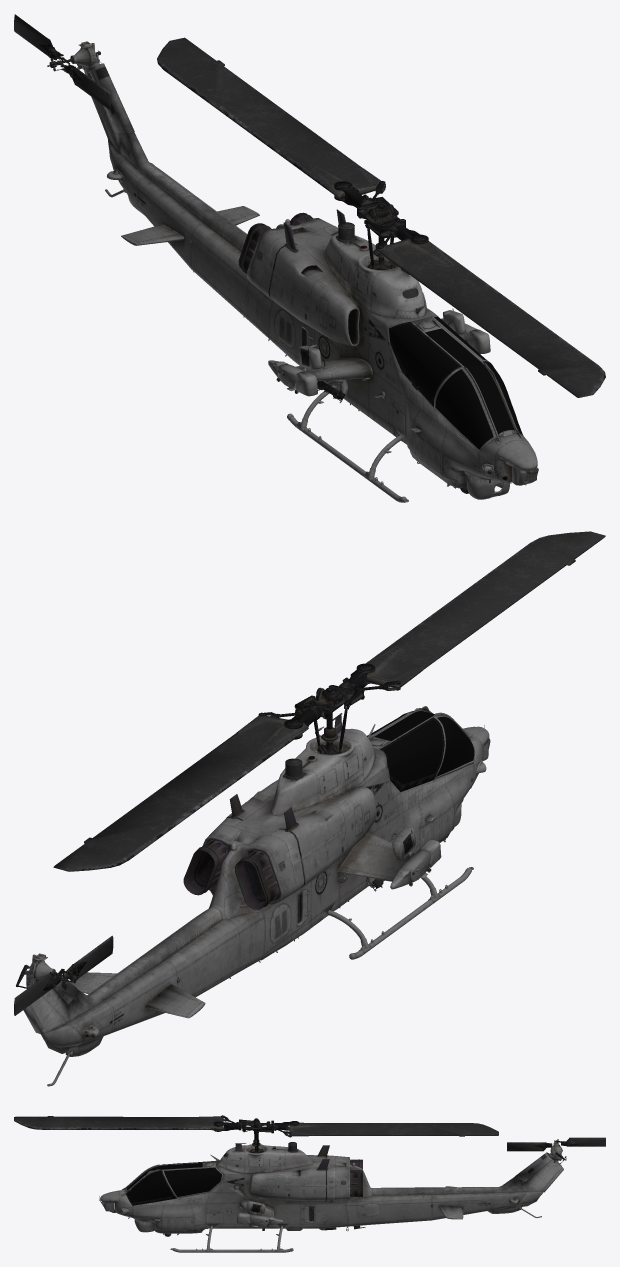
3 renders of one model, top to bottom at view 1: azimuth 30°, elevation 25°; view 2: azimuth 150°, elevation 25°; view 3: azimuth 270°, elevation 25°, orthographic. The views are drawn at different scales.
Visible parts, largest first — view 1: mesh19.dat.desirefx.me_, mesh18.dat.desirefx.me_, mesh40.dat.desirefx.me_, mesh41.dat.desirefx.me_, mesh1.dat.desirefx.me_, mesh20.dat.desirefx.me_, mesh2.dat.desirefx.me_, mesh9.dat.desirefx.me_, mesh21.dat.desirefx.me_, mesh8.dat.desirefx.me_, mesh26.dat.desirefx.me_, mesh23.dat.desirefx.me_ (+3 smaller); view 2: mesh19.dat.desirefx.me_, mesh18.dat.desirefx.me_, mesh41.dat.desirefx.me_, mesh40.dat.desirefx.me_, mesh20.dat.desirefx.me_, mesh2.dat.desirefx.me_, mesh1.dat.desirefx.me_, mesh9.dat.desirefx.me_, mesh8.dat.desirefx.me_, mesh21.dat.desirefx.me_, mesh23.dat.desirefx.me_, mesh36.dat.desirefx.me_ (+1 smaller); view 3: mesh19.dat.desirefx.me_, mesh18.dat.desirefx.me_, mesh40.dat.desirefx.me_, mesh41.dat.desirefx.me_, mesh1.dat.desirefx.me_, mesh20.dat.desirefx.me_, mesh3.dat.desirefx.me_, mesh9.dat.desirefx.me_, mesh36.dat.desirefx.me_, mesh26.dat.desirefx.me_, mesh23.dat.desirefx.me_, mesh21.dat.desirefx.me_ (+4 smaller).
Part boxes in pixels (x1=…): mesh19.dat.desirefx.me_: x1=247, y1=209, x2=537, y2=488; mesh18.dat.desirefx.me_: x1=70, y1=41, x2=312, y2=340; mesh40.dat.desirefx.me_: x1=376, y1=238, x2=605, y2=397; mesh41.dat.desirefx.me_: x1=157, y1=37, x2=385, y2=200; mesh1.dat.desirefx.me_: x1=425, y1=316, x2=514, y2=449; mesh20.dat.desirefx.me_: x1=268, y1=308, x2=490, y2=402; mesh2.dat.desirefx.me_: x1=390, y1=323, x2=457, y2=400; mesh9.dat.desirefx.me_: x1=287, y1=385, x2=408, y2=502; mesh21.dat.desirefx.me_: x1=364, y1=217, x2=428, y2=254; mesh8.dat.desirefx.me_: x1=121, y1=224, x2=184, y2=245; mesh26.dat.desirefx.me_: x1=62, y1=64, x2=111, y2=109; mesh23.dat.desirefx.me_: x1=334, y1=181, x2=398, y2=215; mesh19.dat.desirefx.me_: x1=202, y1=706, x2=489, y2=960; mesh18.dat.desirefx.me_: x1=16, y1=840, x2=279, y2=1086; mesh41.dat.desirefx.me_: x1=53, y1=715, x2=308, y2=871; mesh40.dat.desirefx.me_: x1=350, y1=531, x2=605, y2=688; mesh20.dat.desirefx.me_: x1=245, y1=791, x2=441, y2=891; mesh2.dat.desirefx.me_: x1=383, y1=719, x2=442, y2=784; mesh1.dat.desirefx.me_: x1=367, y1=711, x2=474, y2=776; mesh9.dat.desirefx.me_: x1=328, y1=867, x2=473, y2=959; mesh8.dat.desirefx.me_: x1=145, y1=984, x2=205, y2=1018; mesh21.dat.desirefx.me_: x1=339, y1=663, x2=400, y2=706; mesh23.dat.desirefx.me_: x1=258, y1=695, x2=321, y2=739; mesh36.dat.desirefx.me_: x1=14, y1=968, x2=64, y2=1015; mesh19.dat.desirefx.me_: x1=100, y1=1143, x2=371, y2=1235; mesh18.dat.desirefx.me_: x1=345, y1=1142, x2=566, y2=1229; mesh40.dat.desirefx.me_: x1=14, y1=1116, x2=223, y2=1130; mesh41.dat.desirefx.me_: x1=289, y1=1122, x2=498, y2=1136; mesh1.dat.desirefx.me_: x1=127, y1=1163, x2=221, y2=1196; mesh20.dat.desirefx.me_: x1=236, y1=1200, x2=283, y2=1227; mesh3.dat.desirefx.me_: x1=127, y1=1171, x2=172, y2=1202; mesh9.dat.desirefx.me_: x1=170, y1=1225, x2=293, y2=1252; mesh36.dat.desirefx.me_: x1=557, y1=1137, x2=605, y2=1146; mesh26.dat.desirefx.me_: x1=507, y1=1142, x2=552, y2=1151; mesh23.dat.desirefx.me_: x1=256, y1=1120, x2=299, y2=1137; mesh21.dat.desirefx.me_: x1=213, y1=1115, x2=252, y2=1131.
Bounding box in the file's own units: 0.0324 × 0.0383 × 0.1715.
Materials: 39 (37 with a texture image).
